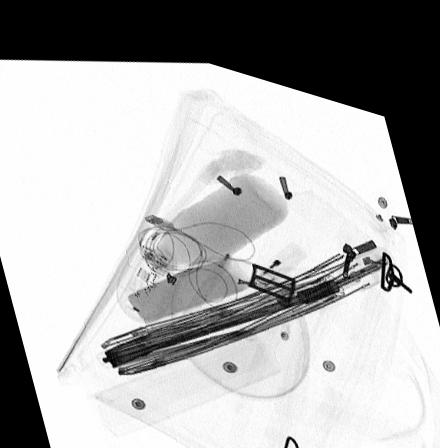Lighter: (251, 222, 307, 273)
